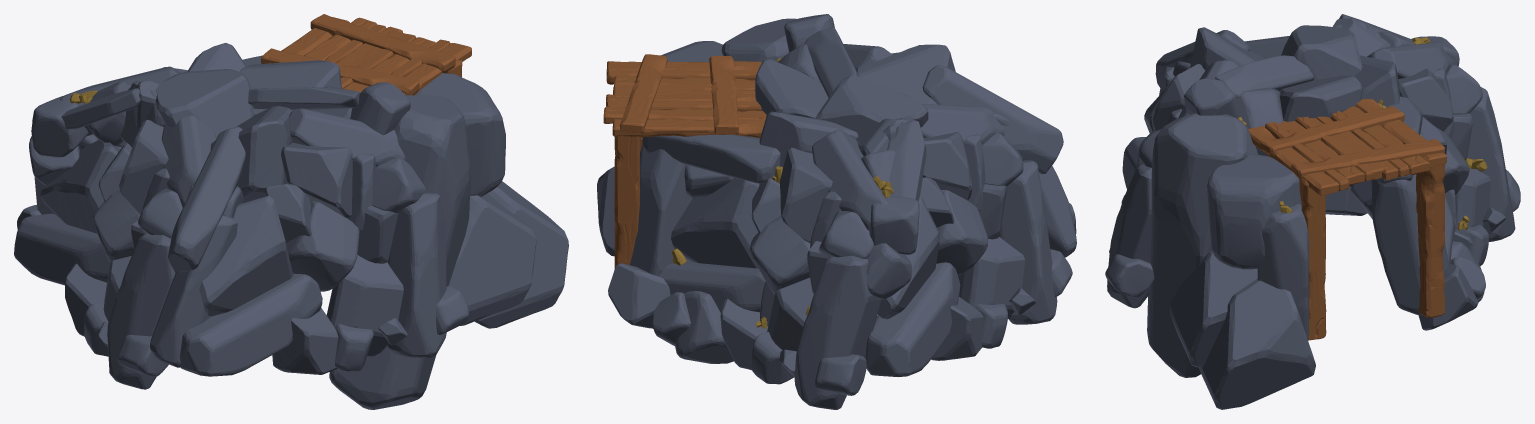
The model's file is mine.fbx.
The picture shows the model from 3 angles, left to right: view 1: azimuth 30°, elevation 25°; view 2: azimuth 150°, elevation 25°; view 3: azimuth 270°, elevation 25°; orthographic projection. The views are drawn at different scales.
Visible parts, largest first — view 1: Cube.040, Cube.082, Cube.051, Cube.079, Cube.076, Cube.098, Cube.077, Cube.048, Cube.101, Cube.037, Cube.036, Cube.096 (+40 smaller); view 2: Cube.012, Cube.101, Cube.015, Cube.098, Cube.016, Cube.077, Cube.014, Cube.048, Cube.035, Cube.006, Cube.020, Cube.099 (+53 smaller); view 3: Cube.040, Cube.036, Cube.037, Cube.016, Cube.051, Cube.002, Cube.005, Cube.079, Cube.012, Cube.048, Cube.004, Cube.041 (+40 smaller).
Boxes of the visible parts, left/top/right/bottom form: Cube.040: left=329, top=95, right=471, bottom=409; Cube.082: left=180, top=274, right=322, bottom=376; Cube.051: left=448, top=193, right=536, bottom=325; Cube.079: left=386, top=192, right=446, bottom=357; Cube.076: left=199, top=196, right=293, bottom=316; Cube.098: left=107, top=233, right=175, bottom=389; Cube.077: left=168, top=126, right=245, bottom=272; Cube.048: left=156, top=69, right=253, bottom=137; Cube.101: left=14, top=213, right=109, bottom=285; Cube.037: left=415, top=73, right=505, bottom=196; Cube.036: left=475, top=181, right=568, bottom=328; Cube.096: left=150, top=215, right=237, bottom=367; Cube.012: left=794, top=255, right=880, bottom=409; Cube.101: left=865, top=262, right=960, bottom=376; Cube.015: left=671, top=178, right=759, bottom=268; Cube.098: left=999, top=160, right=1057, bottom=324; Cube.016: left=630, top=145, right=692, bottom=276; Cube.077: left=922, top=65, right=1063, bottom=173; Cube.014: left=642, top=134, right=780, bottom=183; Cube.048: left=815, top=75, right=928, bottom=136; Cube.035: left=812, top=129, right=888, bottom=230; Cube.006: left=659, top=259, right=765, bottom=312; Cube.020: left=780, top=147, right=832, bottom=242; Cube.099: left=958, top=237, right=1024, bottom=317; Cube.040: left=1147, top=113, right=1257, bottom=377; Cube.036: left=1199, top=278, right=1315, bottom=409; Cube.037: left=1207, top=154, right=1301, bottom=269; Cube.016: left=1371, top=174, right=1448, bottom=315; Cube.051: left=1170, top=250, right=1257, bottom=367; Cube.002: left=1257, top=203, right=1308, bottom=339; Cube.005: left=1416, top=164, right=1445, bottom=318; Cube.079: left=1107, top=164, right=1151, bottom=308; Cube.012: left=1467, top=87, right=1515, bottom=241; Cube.048: left=1281, top=25, right=1362, bottom=80; Cube.004: left=1299, top=178, right=1326, bottom=340; Cube.041: left=1279, top=75, right=1362, bottom=121.
Size of the model in its own units: 1237 by 804 by 1045.
